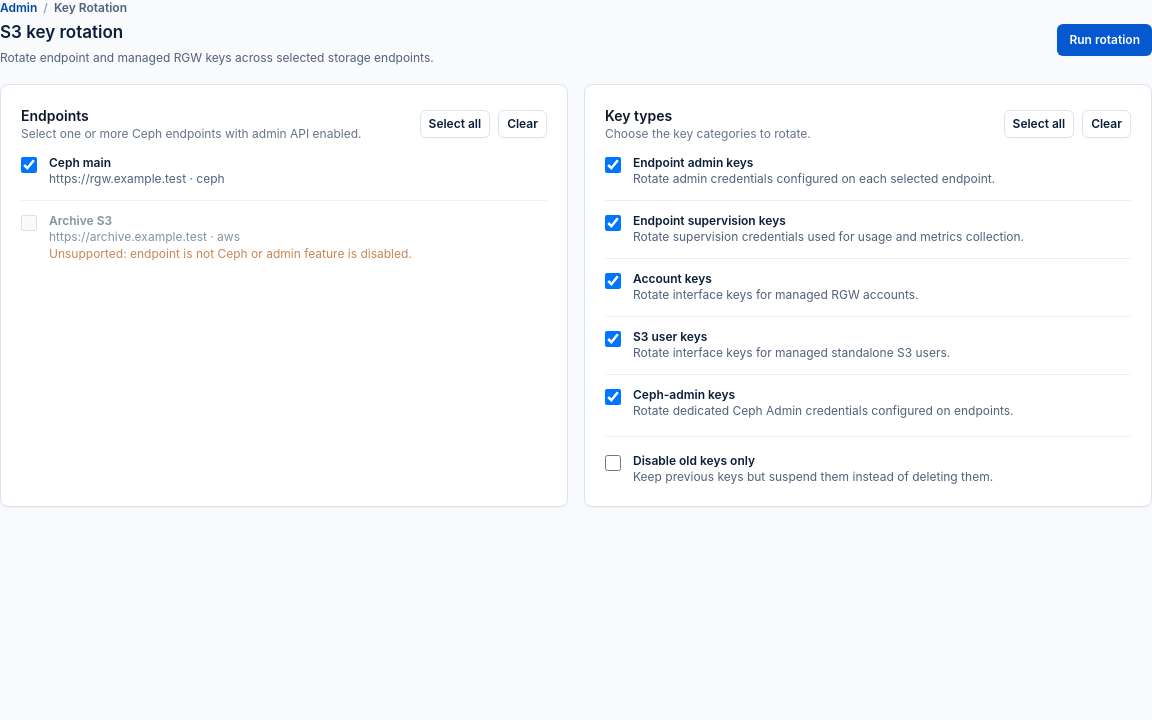
KeyRotationPage › runs rotation and renders responsive execution results
The width and height of the screenshot is (1152, 720).
Expected: the text "Ceph main" is shown, [49,154,111,170]
Expected: the text "Archive S3" is shown, [49,212,112,228]
Click the button "Run rotation". click: (1105, 40)
box: [1057,24,1151,56]
(page scrolled)
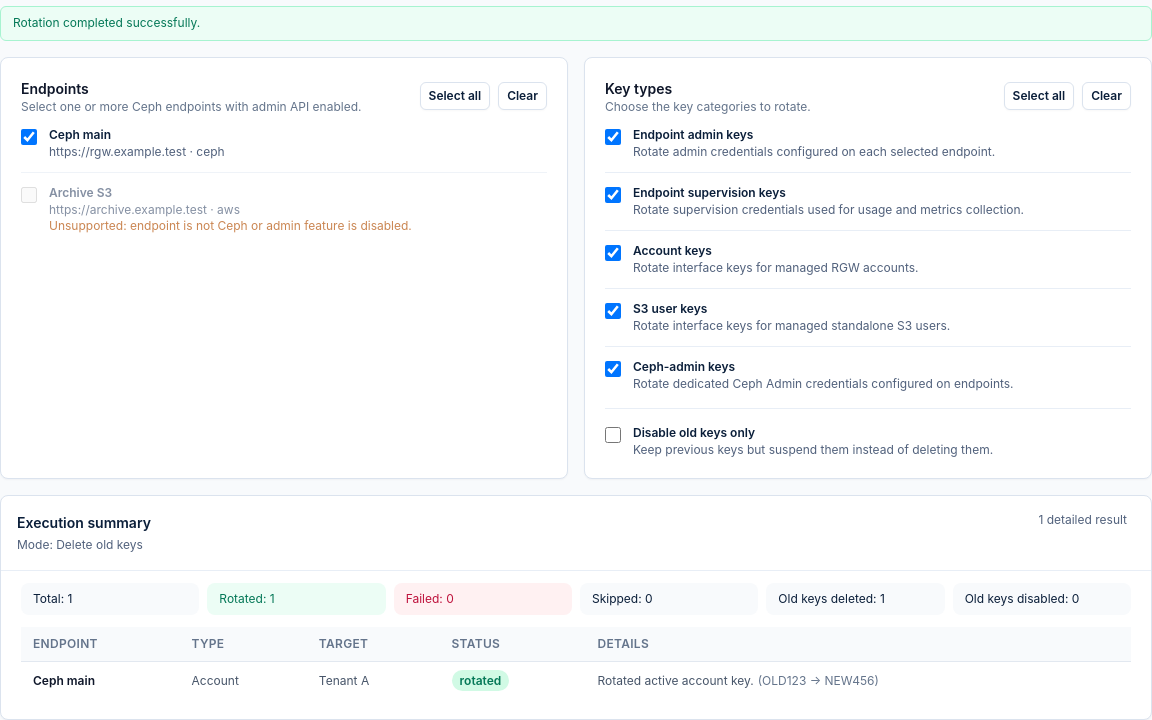
Now the text "Rotation completed successfully." is shown, box [0,6,1151,40]
